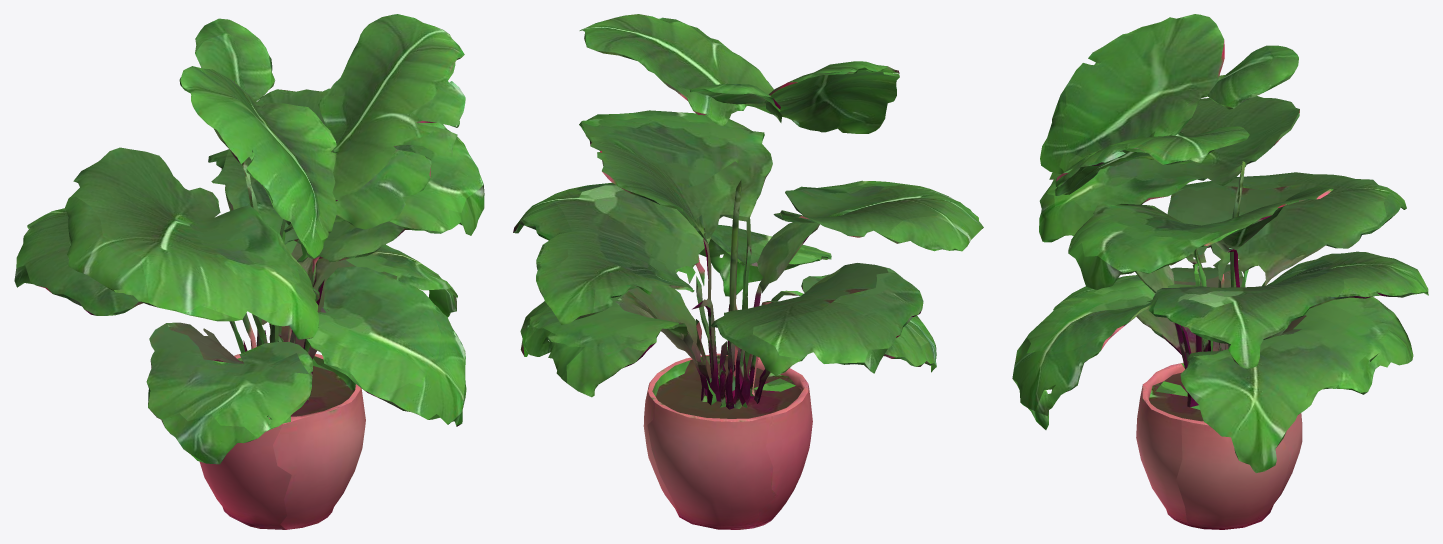
Rendered from big_plant.glb.
3 views of the same model, side by side, from view 1: azimuth 30°, elevation 25°; view 2: azimuth 150°, elevation 25°; view 3: azimuth 270°, elevation 25° (orthographic). The views are drawn at different scales.
Parts seen in each view (by area): view 1: big_plant; view 2: big_plant; view 3: big_plant.
Boxes of the visible parts, x1,y1,x2,y2 form: big_plant: [14, 14, 484, 529]; big_plant: [513, 14, 983, 529]; big_plant: [1012, 14, 1428, 529].
Size of the model in its own units: 0.9559 by 1 by 0.8485.
1 material, 1 textured.
